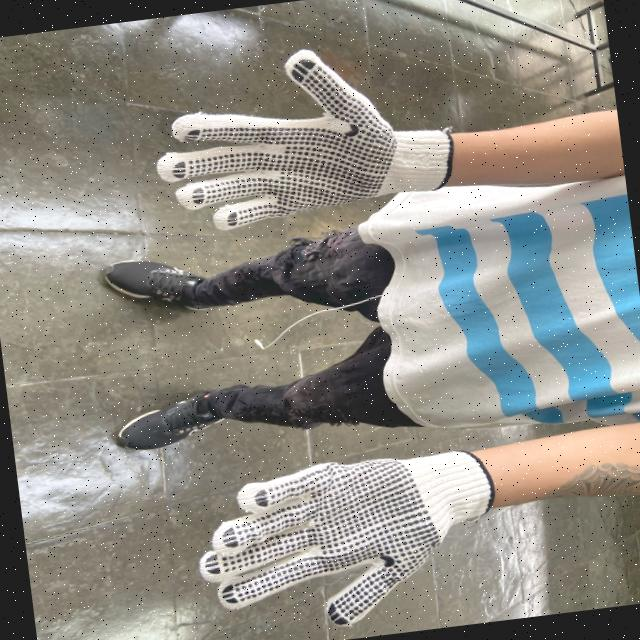LUVA: (149, 45, 455, 237), (191, 441, 490, 628)
SEM BOTA: (114, 387, 232, 449), (99, 259, 227, 312)
